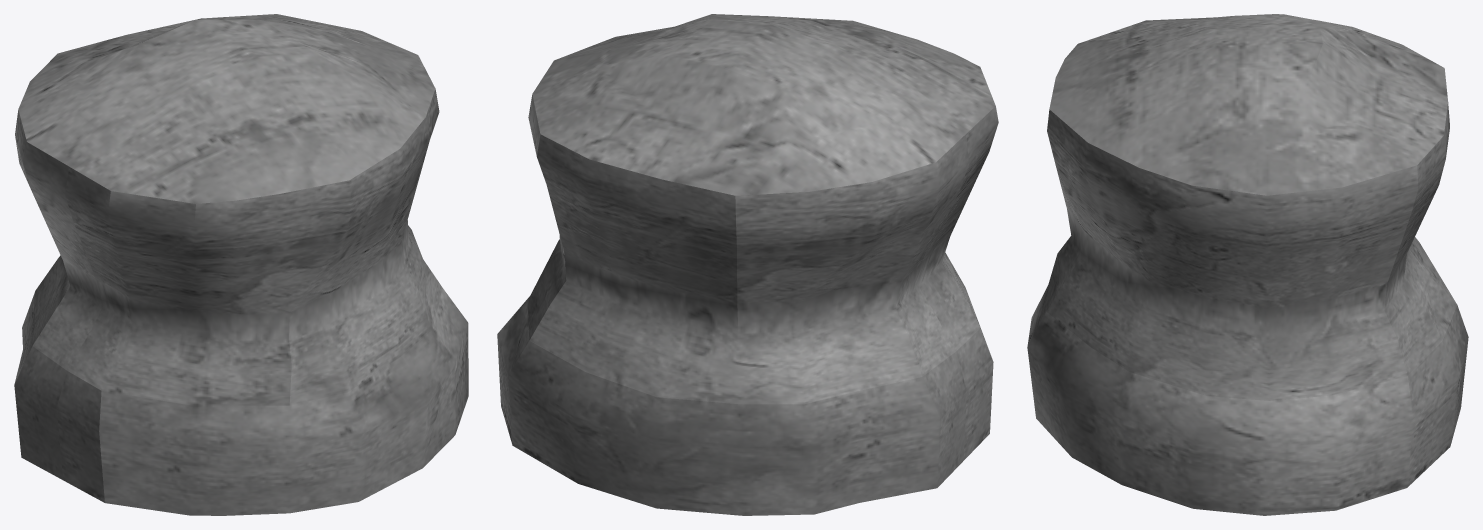
The model's file is lvl1_sea_rock.fbx.
The picture shows the model from 3 angles, left to right: view 1: azimuth 30°, elevation 25°; view 2: azimuth 150°, elevation 25°; view 3: azimuth 270°, elevation 25°; orthographic projection. The views are drawn at different scales.
Visible parts, largest first — view 1: lvl1_sea_rock; view 2: lvl1_sea_rock; view 3: lvl1_sea_rock.
Boxes of the visible parts, x1,y1,x2,y2 form: lvl1_sea_rock: (14, 14, 468, 515); lvl1_sea_rock: (497, 14, 998, 515); lvl1_sea_rock: (1027, 14, 1468, 515).
Bounding box in the file's own units: 11660 × 10072 × 10969.
